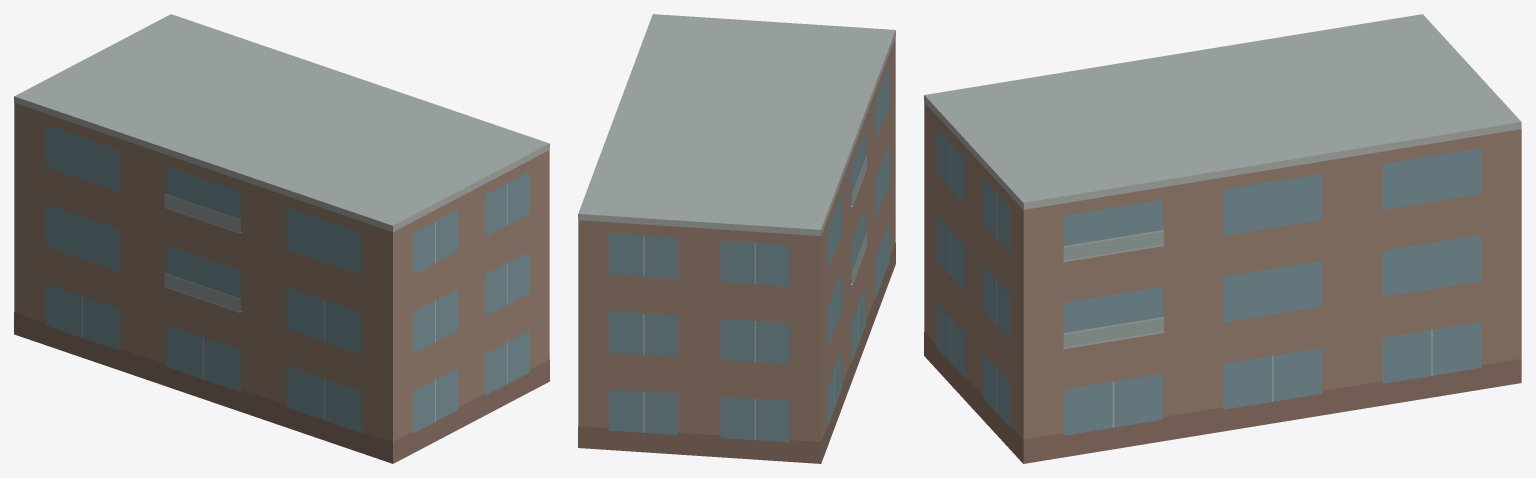
Rendered from survey-upis-32698436.glb.
3 renders of one model, left to right at view 1: azimuth 30°, elevation 25°; view 2: azimuth 150°, elevation 25°; view 3: azimuth 270°, elevation 25°, orthographic. The views are drawn at different scales.
Parts seen in each view (by area): view 1: survey-upis-32698436.tmp; view 2: survey-upis-32698436.tmp; view 3: survey-upis-32698436.tmp.
Boxes of the visible parts, bbox=[...] form: survey-upis-32698436.tmp: bbox=[14, 14, 549, 463]; survey-upis-32698436.tmp: bbox=[578, 14, 895, 463]; survey-upis-32698436.tmp: bbox=[924, 14, 1521, 463].
Bounding box in the file's own units: 14.23 × 9.15 × 19.
